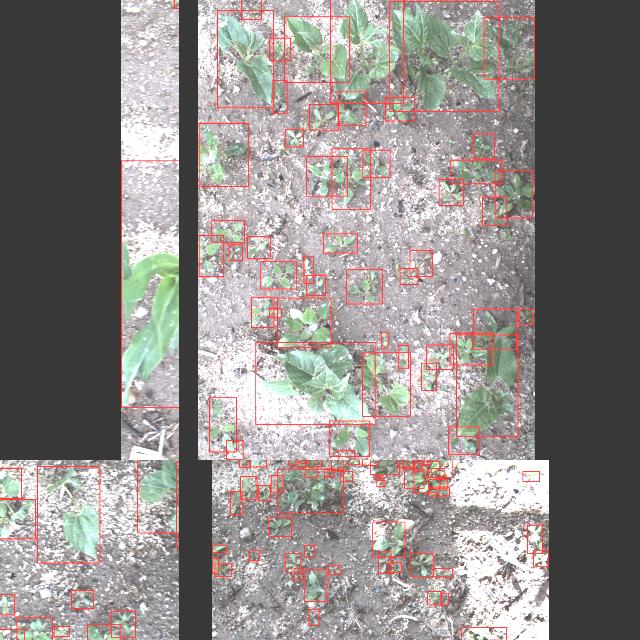crop: (120, 159, 179, 406), (389, 1, 499, 111), (255, 342, 375, 424), (330, 0, 403, 102), (456, 334, 518, 436), (36, 466, 100, 562), (216, 10, 272, 106), (283, 16, 349, 82), (362, 352, 410, 416), (137, 460, 179, 532), (484, 18, 534, 78), (16, 616, 52, 640), (0, 468, 20, 498)
weed: (198, 122, 248, 186), (277, 469, 343, 513), (276, 297, 330, 347), (332, 148, 371, 208), (496, 169, 532, 217), (474, 308, 516, 349), (306, 155, 346, 195), (208, 397, 236, 451), (329, 420, 369, 456), (0, 498, 35, 538), (450, 332, 492, 364), (346, 268, 382, 304), (451, 159, 502, 183), (372, 522, 404, 556), (198, 234, 222, 276), (260, 260, 296, 288), (337, 91, 365, 125), (448, 426, 479, 454), (413, 461, 439, 492), (362, 149, 390, 177), (308, 103, 338, 129), (110, 610, 136, 638), (210, 219, 243, 241), (250, 296, 274, 326), (384, 96, 414, 120), (304, 569, 326, 601), (438, 179, 464, 205), (482, 196, 506, 224), (461, 626, 506, 640), (426, 344, 452, 368), (322, 234, 356, 252), (87, 623, 121, 640), (409, 250, 431, 276), (472, 134, 494, 158), (410, 552, 432, 576), (247, 236, 270, 258), (268, 38, 290, 61), (272, 79, 286, 113), (420, 362, 436, 390), (268, 516, 290, 536), (426, 460, 451, 477), (369, 460, 399, 474), (404, 468, 424, 488), (71, 590, 93, 608), (528, 524, 542, 552), (306, 275, 324, 295), (240, 0, 260, 18), (240, 476, 256, 498), (284, 128, 302, 146), (225, 439, 242, 458), (284, 552, 300, 572), (399, 268, 417, 284), (229, 490, 241, 514), (303, 255, 313, 282), (378, 551, 390, 573), (0, 594, 13, 614), (398, 344, 408, 368), (518, 308, 532, 324), (228, 244, 242, 260), (534, 549, 548, 565), (213, 564, 230, 576), (429, 486, 449, 496), (258, 484, 270, 500), (270, 475, 282, 491), (305, 460, 317, 476), (522, 471, 540, 481), (429, 478, 447, 488), (338, 449, 354, 460), (428, 590, 440, 604), (432, 568, 452, 576), (308, 609, 318, 625), (297, 460, 321, 466), (54, 626, 68, 636), (380, 331, 388, 347), (248, 550, 260, 560), (388, 562, 400, 572), (432, 467, 444, 477), (340, 471, 352, 481), (304, 544, 314, 556), (327, 564, 339, 574), (330, 460, 343, 469), (212, 544, 226, 552), (412, 461, 422, 471), (269, 308, 281, 316), (250, 460, 266, 466), (293, 567, 301, 579), (401, 460, 414, 467), (211, 558, 217, 572), (323, 468, 332, 477), (362, 460, 378, 465), (442, 592, 448, 604), (239, 460, 249, 467), (396, 460, 406, 467), (376, 480, 384, 486), (287, 460, 295, 465), (418, 460, 430, 463), (347, 460, 358, 463), (299, 460, 308, 463), (374, 476, 384, 478)
